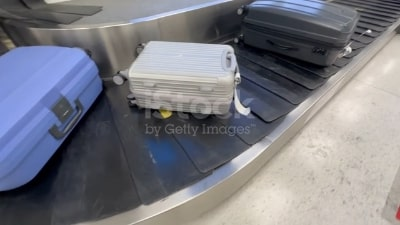baggage: (1, 42, 107, 194), (111, 39, 255, 130), (234, 2, 372, 71)
